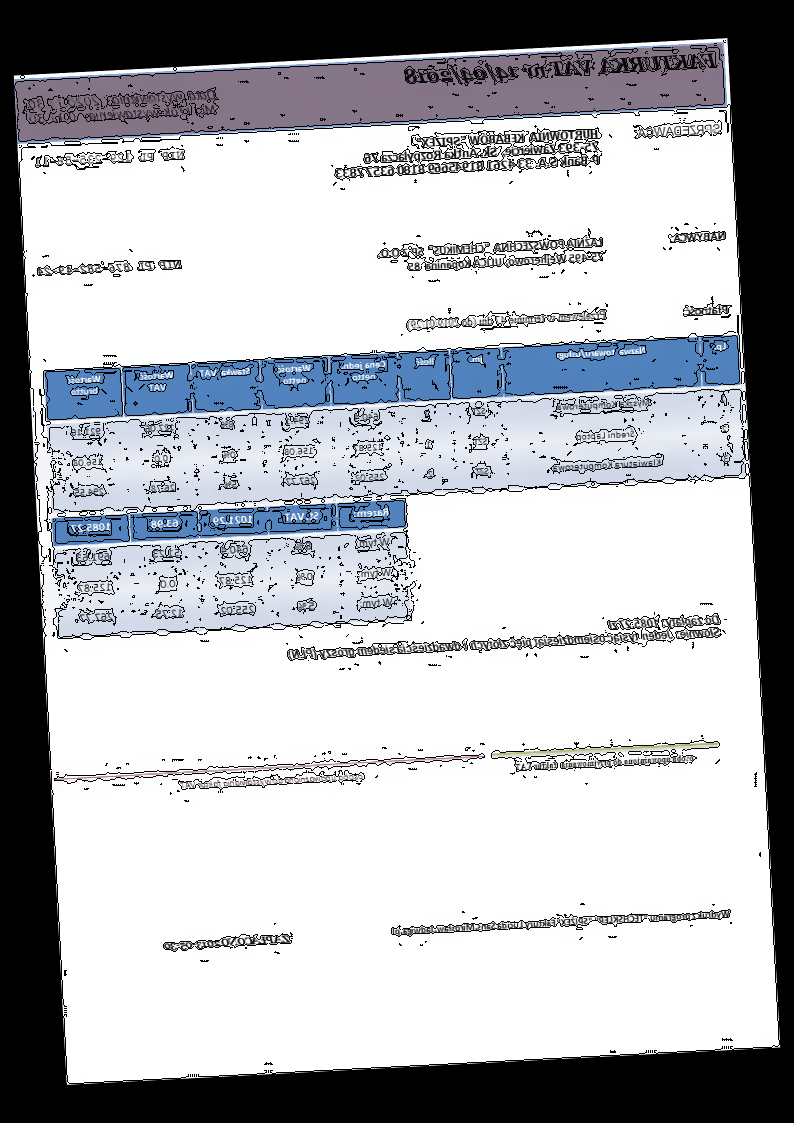Table: (42, 333, 749, 513), (51, 498, 414, 639)
TextBox: (285, 612, 724, 665), (333, 127, 602, 183), (400, 48, 720, 91), (389, 906, 734, 939), (375, 235, 608, 276), (23, 86, 220, 127), (404, 307, 609, 333), (512, 751, 700, 775), (179, 769, 366, 791), (33, 148, 188, 171), (36, 256, 184, 280), (161, 932, 294, 955), (633, 120, 723, 140), (669, 228, 730, 245), (680, 302, 733, 319)
